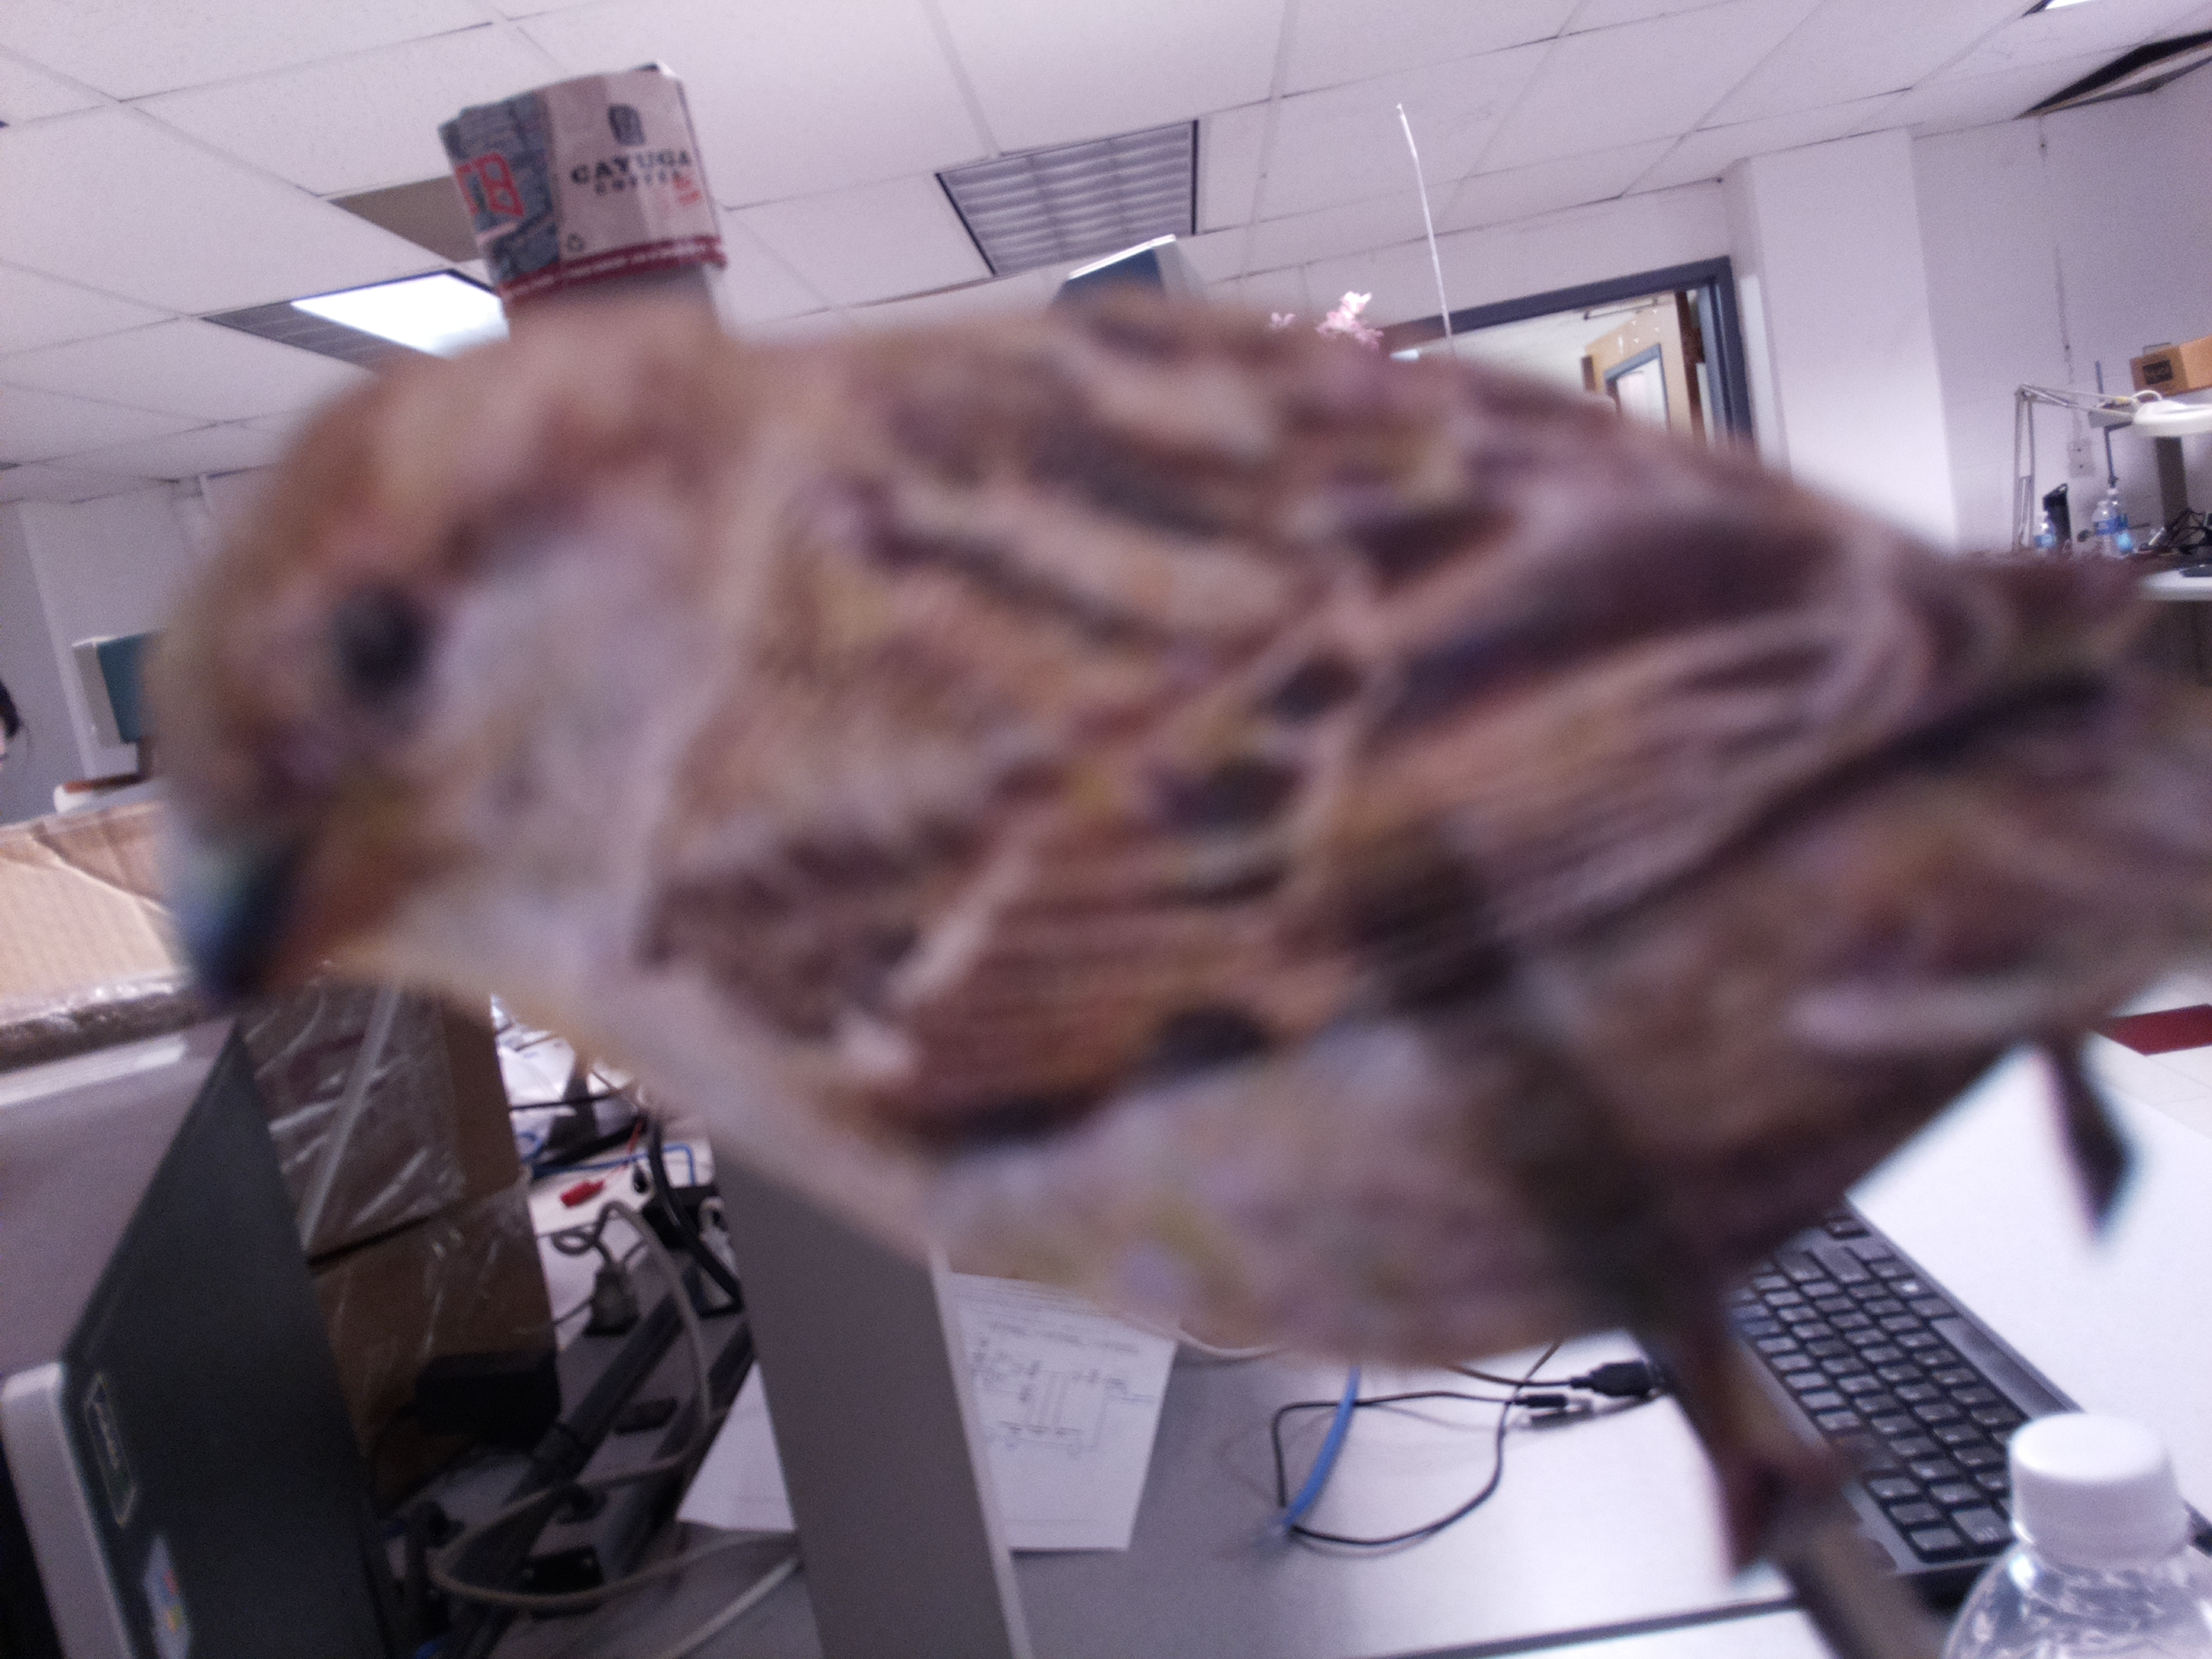bird: (115, 275, 2212, 1352)
